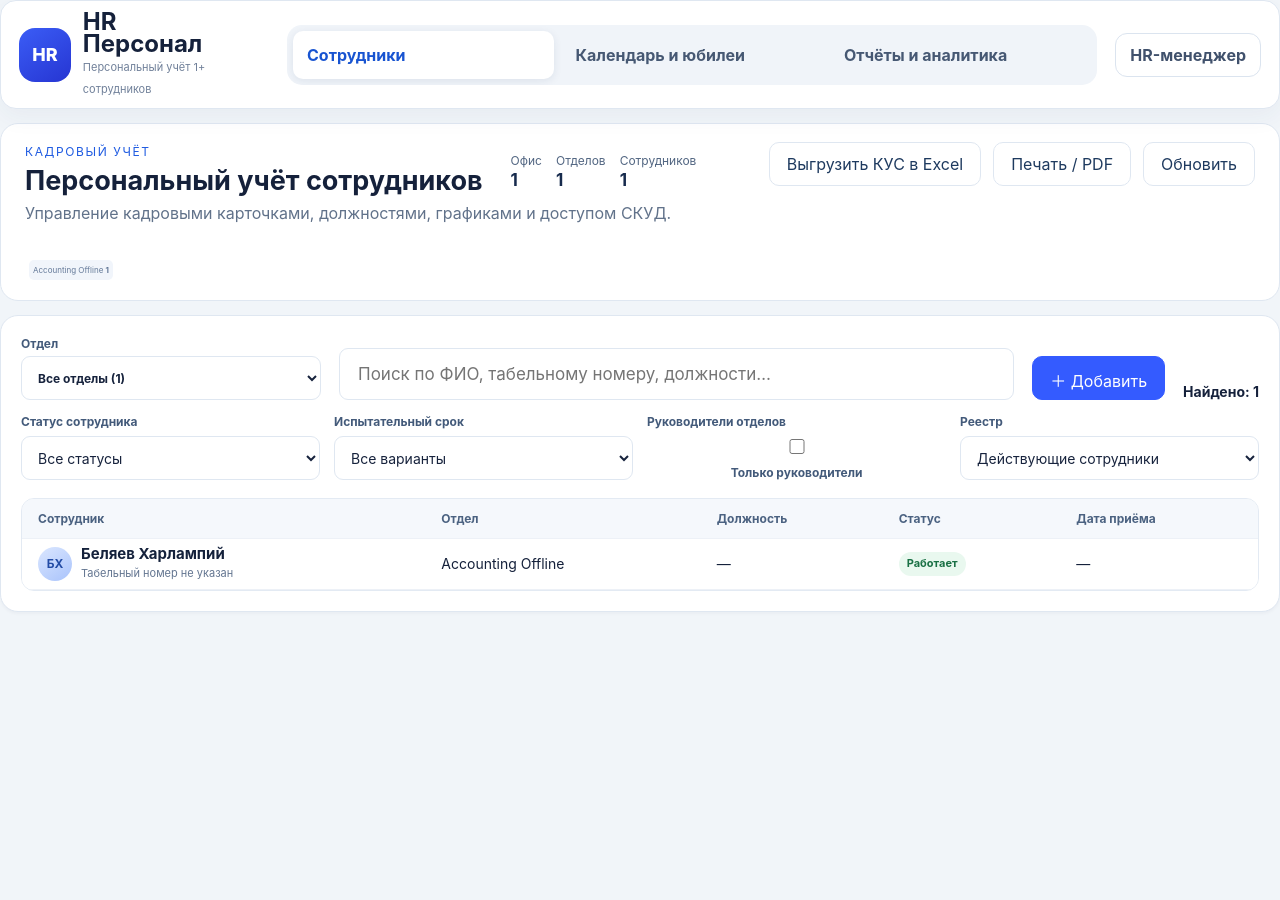
Кадровое рабочее место › открывает широкую карточку с вкладками и компактным фото
The image size is (1280, 900).
Click the button "Беляев Харлампий".
click(136, 564)  # box [38,545,233,583]
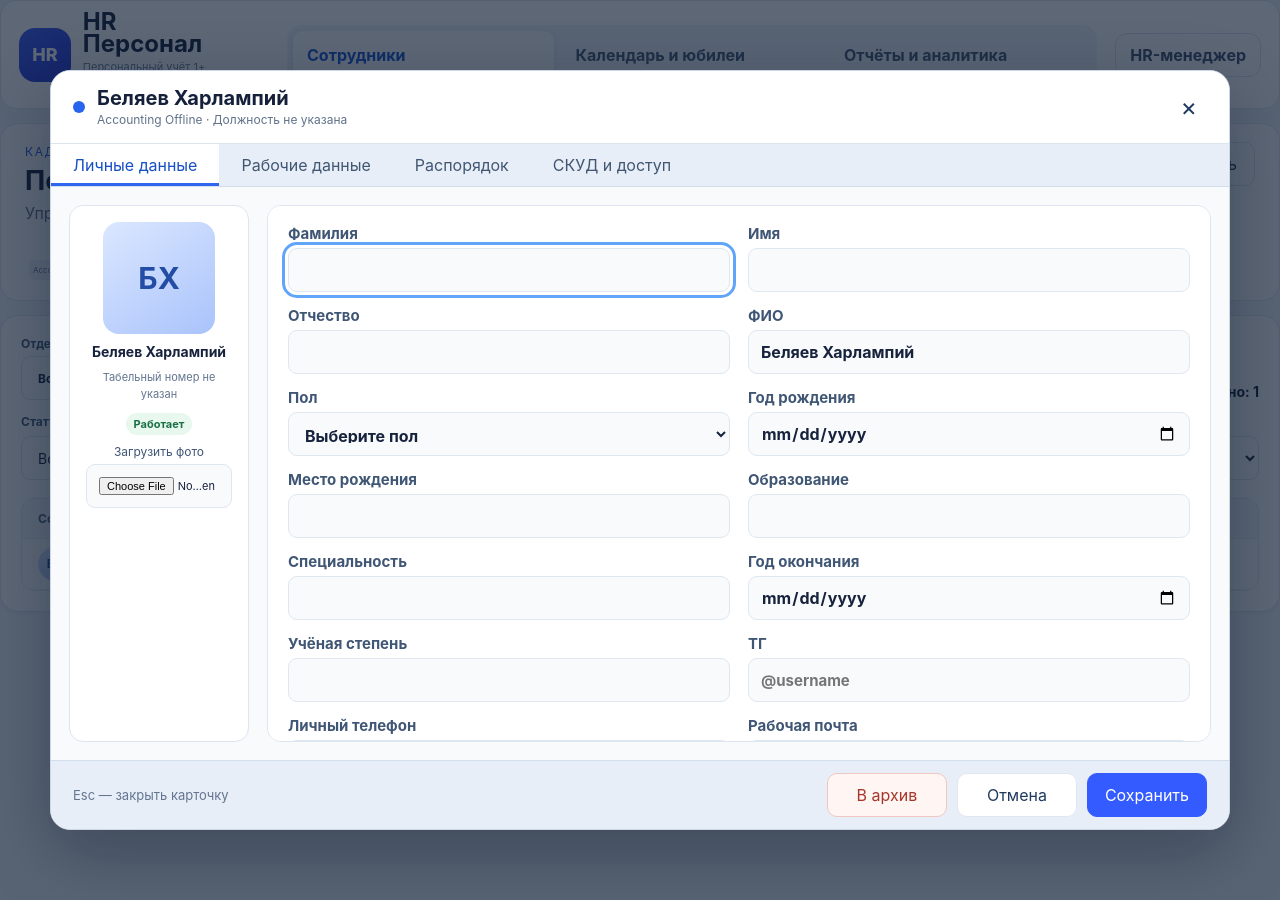
Check: the tab "Личные данные" is shown, box [51,144,219,186]
Check: the tab "Рабочие данные" is shown, box [219,144,393,186]
Check: the tab "СКУД и доступ" is shown, box [531,144,693,186]
